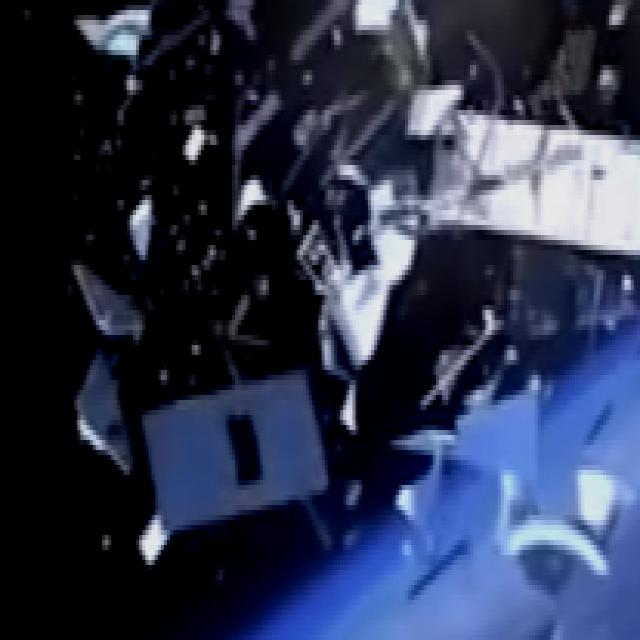large_debris: (268, 6, 448, 222), (387, 356, 545, 584), (404, 100, 638, 250), (145, 360, 321, 534), (314, 199, 424, 442), (480, 450, 627, 593), (474, 248, 634, 355), (75, 346, 136, 504), (525, 24, 607, 106), (230, 84, 270, 232), (68, 263, 140, 341), (422, 324, 494, 400), (135, 12, 218, 74), (80, 7, 158, 72), (232, 267, 277, 345), (125, 180, 161, 266), (184, 102, 214, 176)
